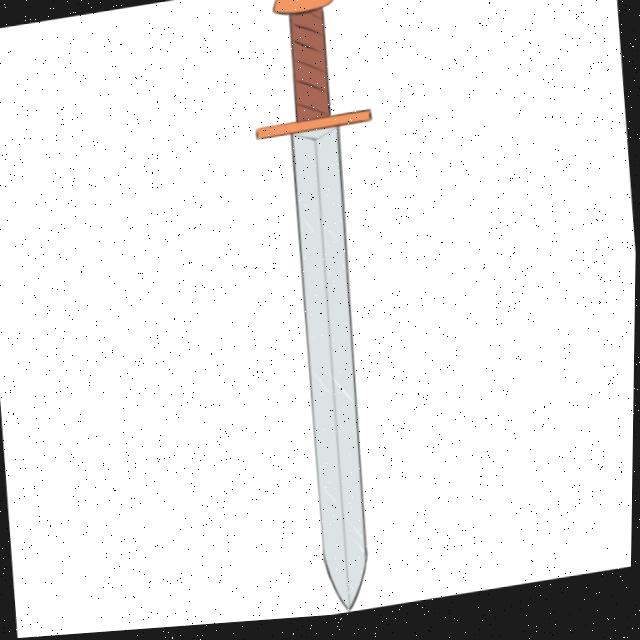knife: (233, 0, 422, 626)
